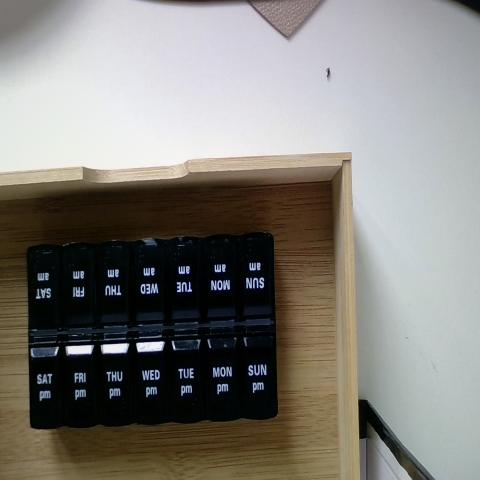FRI-am: (68, 242, 98, 330)
FRI-pm: (67, 342, 98, 426)
MON-am: (207, 243, 238, 330)
MON-pm: (212, 340, 251, 424)
SAT-am: (27, 244, 65, 340)
SAT-pm: (28, 338, 65, 430)
SUN-am: (240, 240, 276, 328)
SUN-pm: (244, 338, 278, 417)
THU-am: (101, 244, 134, 330)
THU-pm: (98, 338, 136, 424)
TUE-am: (174, 246, 207, 332)
TUE-pm: (172, 337, 207, 427)
WED-am: (136, 242, 169, 334)
WED-pm: (136, 332, 172, 422)
